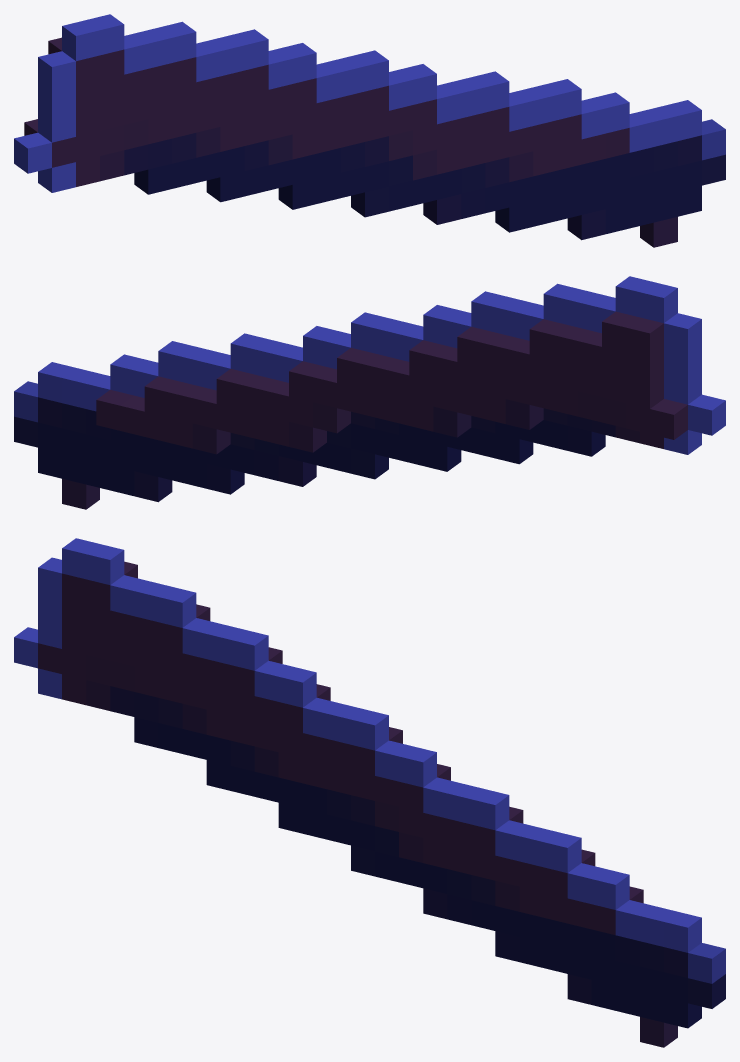
Rendered from debris-3.obj.
3 renders of one model, top to bottom at view 1: azimuth 30°, elevation 25°; view 2: azimuth 150°, elevation 25°; view 3: azimuth 330°, elevation 25°, orthographic.
Size of the model in its own units: 2.9 by 1.4 by 0.2.
